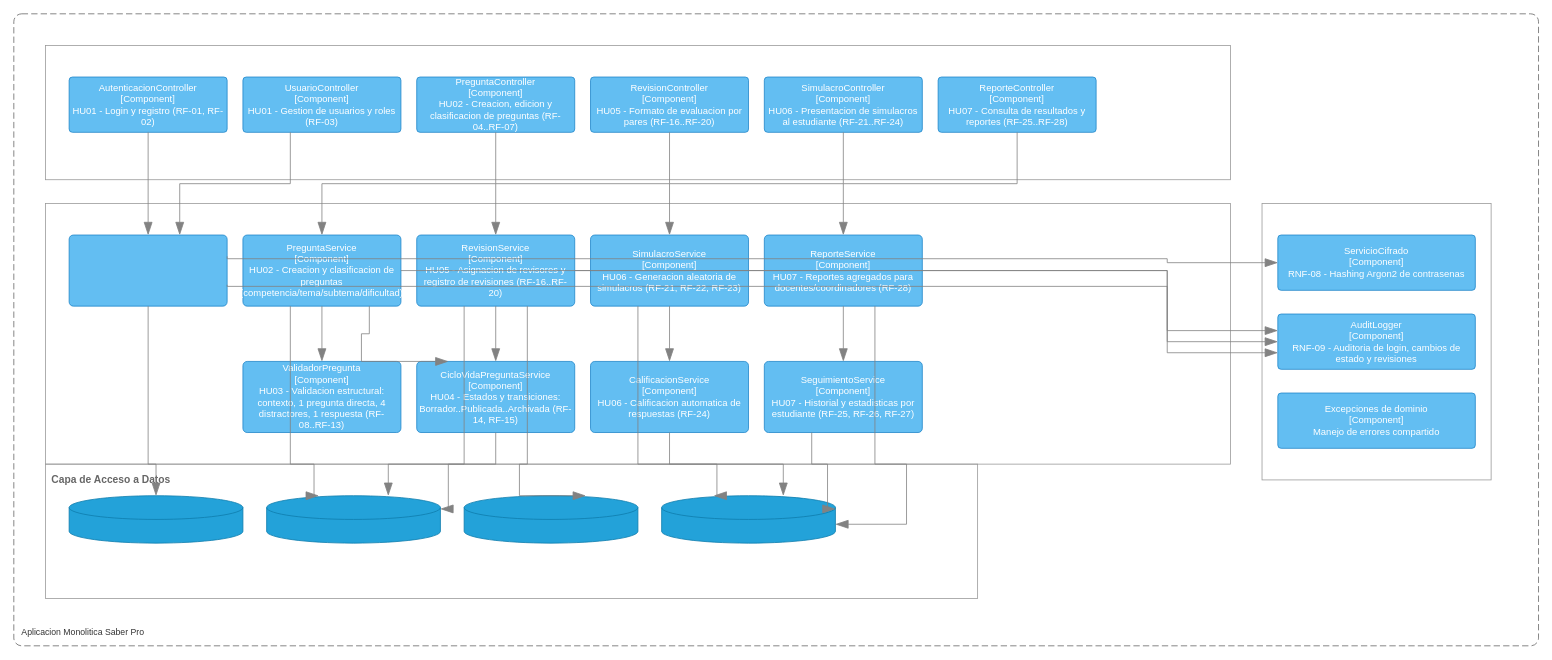
The diagram is 1552 pixels wide and 660 high, and some of its shapes have lost their labels. Here are the shapes that lost their labels. From the top down, the box of each, then its label:
(45, 45, 1230, 180): Capa de Presentacion
(68, 234, 227, 306): UsuarioService [Component] HU01 - Registro y autenticacion de usuarios
(45, 203, 1230, 464): Capa de Dominio
(1261, 203, 1491, 480): Capa Transversal
(68, 495, 243, 543): UsuarioRepository [Component: SQLite]
(266, 495, 440, 543): PreguntaRepository [Component: SQLite]
(463, 495, 638, 543): RevisionRepository [Component: SQLite]
(661, 495, 835, 543): SimulacroRepository [Component: SQLite]
